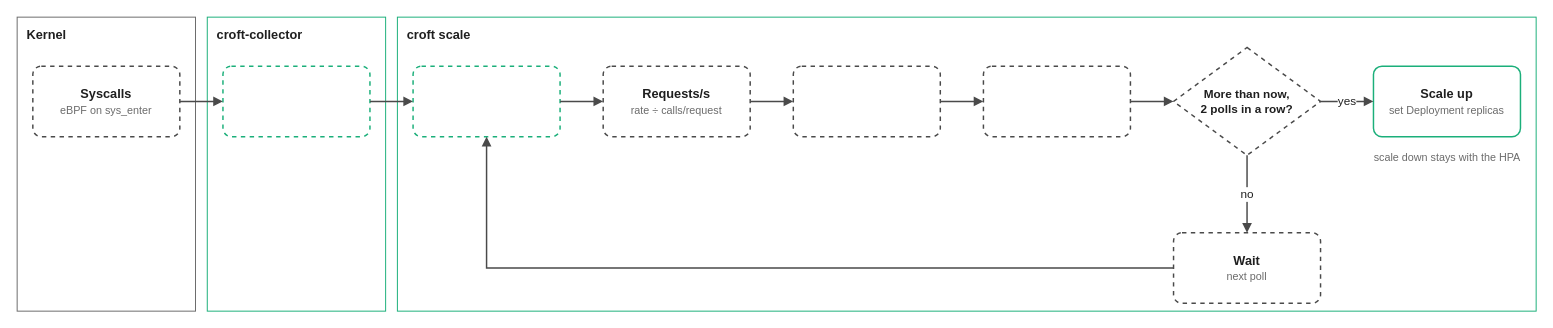
Image size: 1553x328. Some labels were removed from this diagram. Each missing label, with the centre of its shape:
"CPU demand RPS × CPU/request" belongs at point 866,101.
"Poll every 2 s" belongs at point 486,101.
"Replicas needed demand ÷ 70% of request" belongs at point 1056,101.
"Syscall rate per container" belongs at point 296,101.
